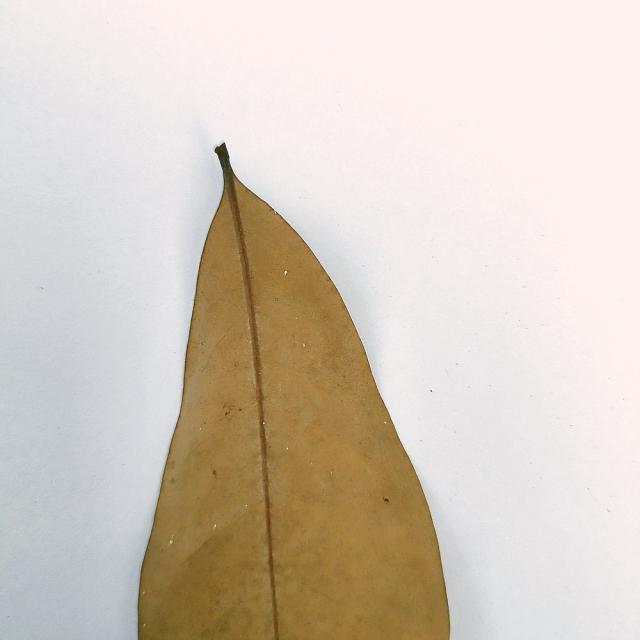Dry_Leaf-Lychee: (136, 145, 451, 639)
